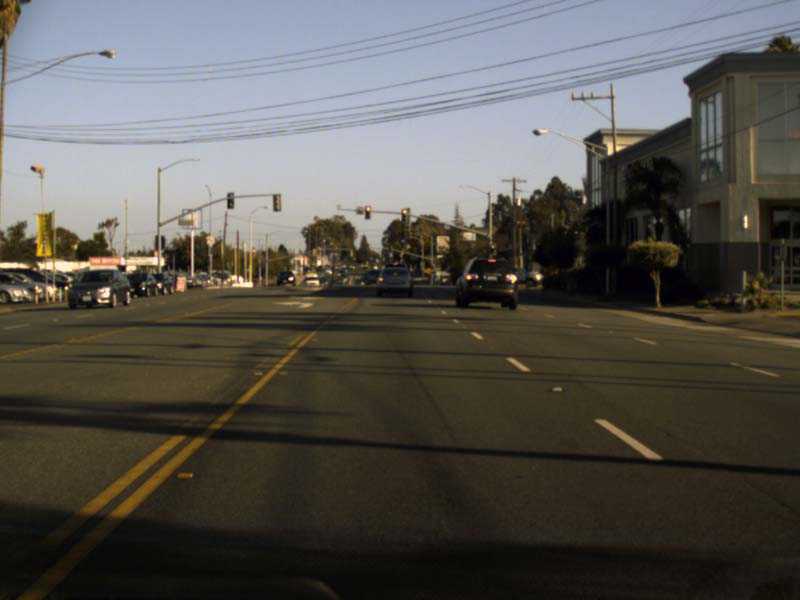Red: (400, 208, 409, 222), (364, 205, 371, 219), (489, 242, 496, 254)
